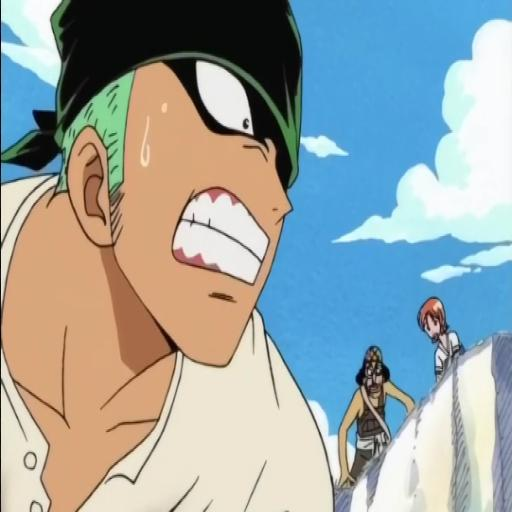Nami: (408, 286, 478, 400)
Usopp: (326, 324, 407, 512)
Zoro: (0, 0, 327, 512)
